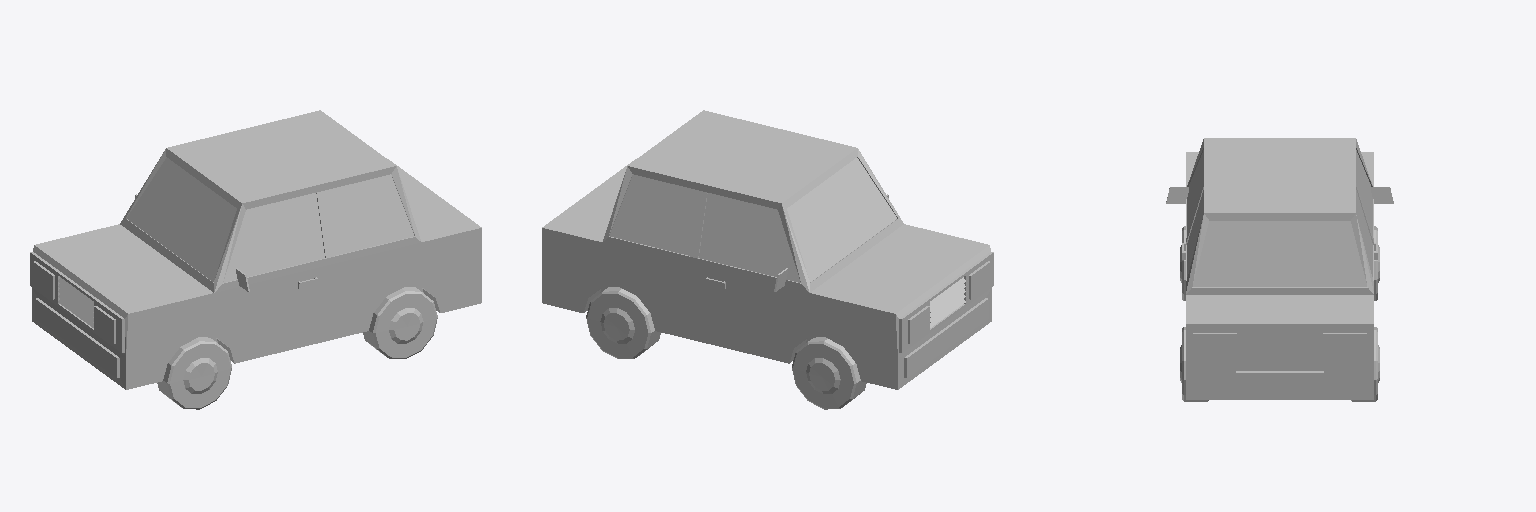
File: carro2.obj
3 views of the same model, side by side, from view 1: azimuth 30°, elevation 25°; view 2: azimuth 150°, elevation 25°; view 3: azimuth 270°, elevation 25° (orthographic).
Parts seen in each view (by area): view 1: polySurface35; view 2: polySurface35; view 3: polySurface35.
Boxes of the visible parts, x1=… form: polySurface35: x1=30, y1=110, x2=481, y2=409; polySurface35: x1=542, y1=110, x2=993, y2=409; polySurface35: x1=1166, y1=138, x2=1393, y2=401.
Size of the model in its own units: 3.35 by 1.63 by 1.81.